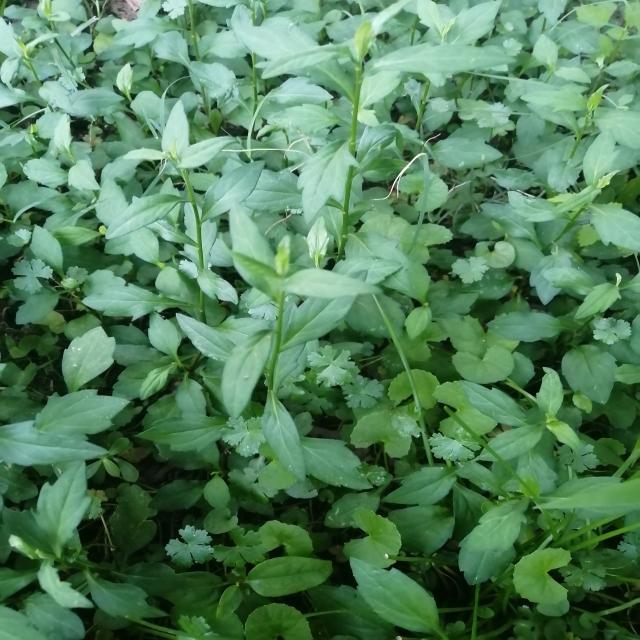Indian aster: (124, 206, 373, 494), (97, 101, 276, 229)
